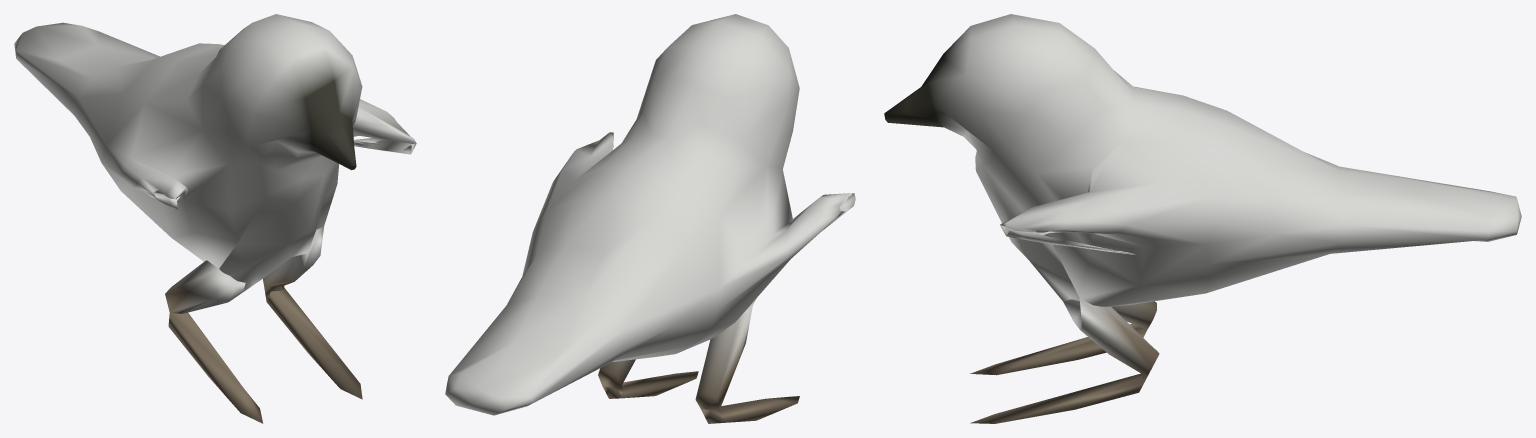
Rendered from sparrow-0.glb.
3 views of the same model, side by side, from view 1: azimuth 30°, elevation 25°; view 2: azimuth 150°, elevation 25°; view 3: azimuth 270°, elevation 25° (orthographic).
Parts seen in each view (by area): view 1: sparrow; view 2: sparrow; view 3: sparrow.
Part boxes in pixels (x1,y1,x2,y2): sparrow: (14, 14, 416, 423); sparrow: (445, 14, 855, 423); sparrow: (884, 14, 1521, 423).
Bounding box in the file's own units: 0.0732 × 0.102 × 0.1562.
